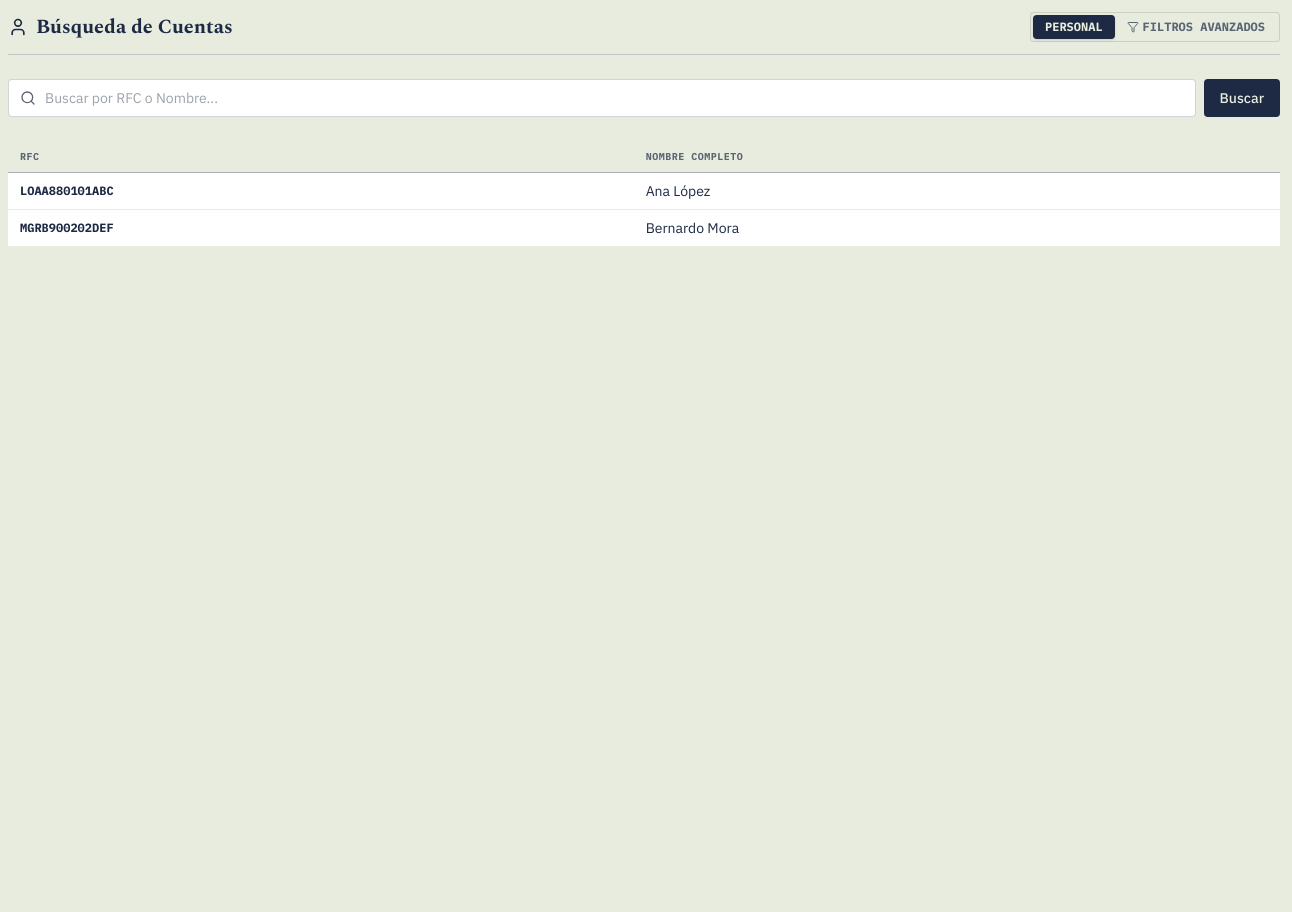
Test: RightBookPage Component › cambia al tab de Filtros Avanzados y lo renderiza correctamente al hacer clic
// Hacer click en el selector de Filtros Avanzados
Click the tab "Filtros Avanzados" at (1196, 27), box x1=1115 y1=15 x2=1277 y2=39
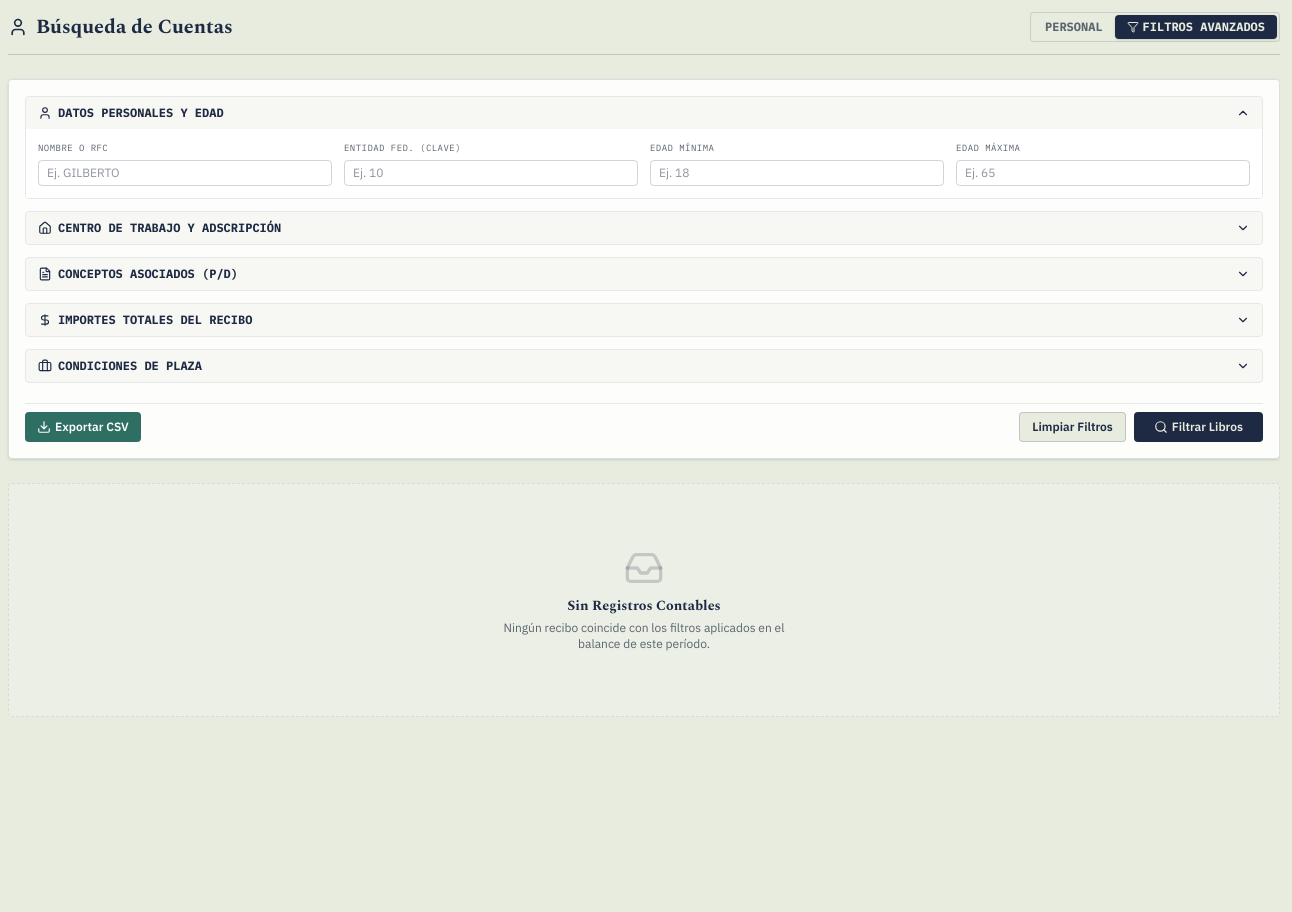
Now the text "DATOS PERSONALES Y EDAD" is shown, box x1=38 y1=105 x2=224 y2=121
Now the field with placeholder "Ej. GILBERTO" is shown, box x1=38 y1=160 x2=332 y2=186
Now the number field with placeholder "Ej. 10" is shown, box x1=344 y1=160 x2=638 y2=186
